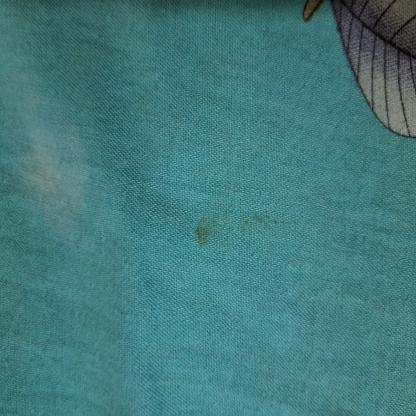spot: (236, 187, 286, 244), (190, 203, 229, 255)
